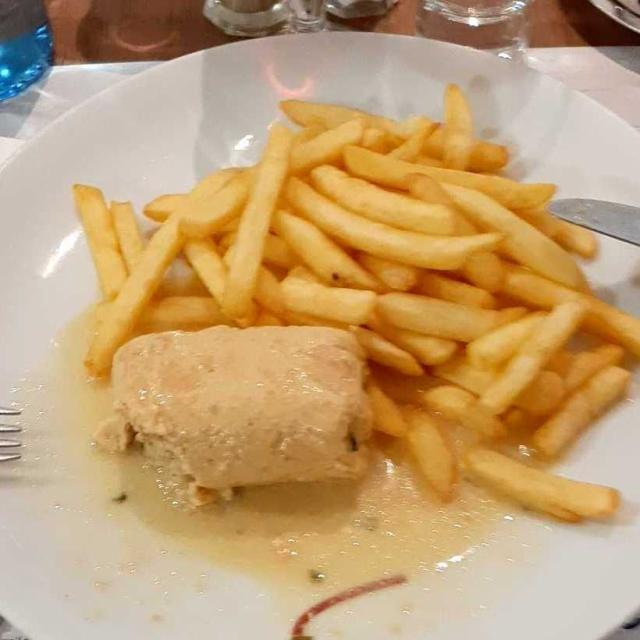chips-french-fries: (85, 100, 622, 521)
salmon: (106, 323, 383, 491)
sauce: (81, 352, 462, 600)
